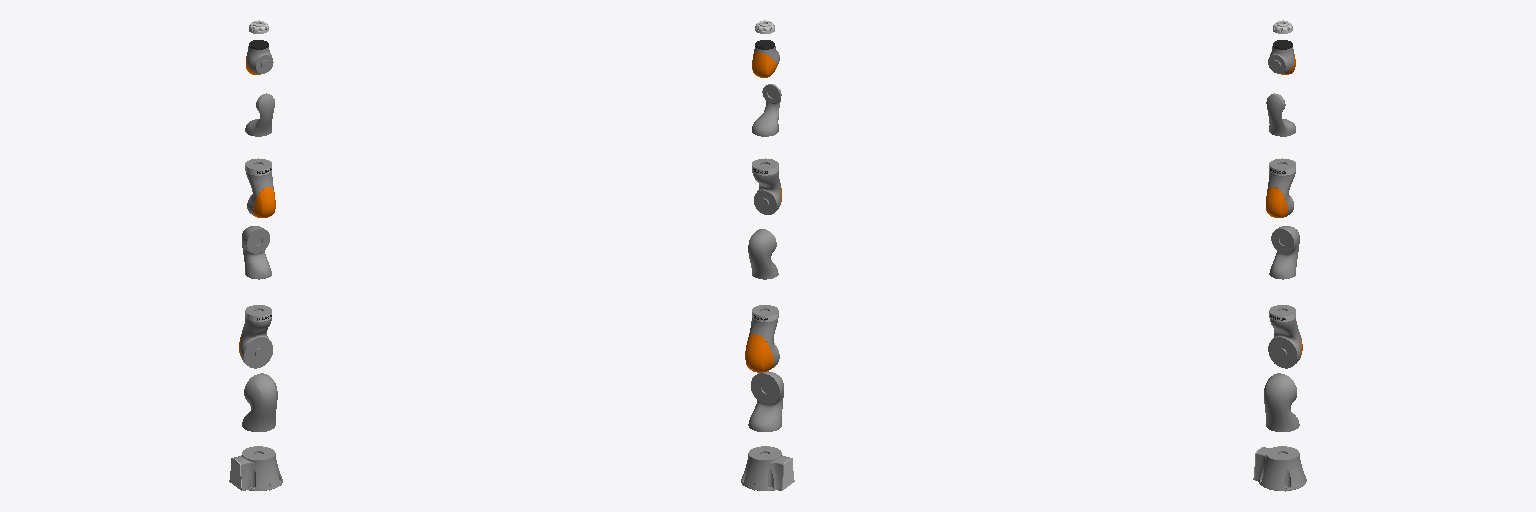
robot.urdf — kuka-iiwa-14:
<?xml version="1.0"?>

<robot name = "kuka-iiwa-14">

    <link name = "base_link">
        <visual>
            <origin rpy="0.0 0.0 0.0" xyz="0.0 0.0 0.0"/>
            <geometry>
                <mesh filename = "package://kuka-iiwa-14_description/meshes/link_0.dae" scale = "1.0 1.0 1.0"/>
            </geometry>
        </visual>
    </link>

    <!-- Joint 1: Base to Link 1 - Rotates around Z -->
    <joint name="base_to_link1" type="revolute">
        <origin xyz="0.0 0.0 0.1575"  rpy="0.0 0.0 0.0"/>
        <parent link="base_link"/>
        <child link="link_1"/>
        <axis xyz="0.0 0.0 1.0"/>
        <limit lower="-2.967" upper="2.967" effort="320.0" velocity="1.483"/>
    </joint>

    <link name = "link_1">
        <visual>
        <origin rpy="0.0 0.0 0.0" xyz ="0.0 0.0 0.0"/>
            <geometry>
                <mesh filename = "package://kuka-iiwa-14_description/meshes/link_1.dae" scale = "1.0 1.0 1.0"/>
            </geometry>
        </visual>
    </link>

    <!-- Joint 2: Link 1 to Link 2 - Rotates around Y -->
    <joint name="link1_to_link2" type="revolute">
        <origin xyz="0.0 0.0 0.2025"  rpy="0.0 0.0 0.0"/>
        <parent link="link_1"/>
        <child link="link_2"/>
        <axis xyz="0.0 1.0 0.0"/>
        <limit lower="-2.094" upper="2.094" effort="320.0" velocity="1.483"/>
    </joint>

    <link name = "link_2">
        <visual>
        <origin rpy="0.0 0.0 0.0" xyz ="0.0 0.0 0.0"/>
            <geometry>
                <mesh filename = "package://kuka-iiwa-14_description/meshes/link_2.dae" scale = "1.0 1.0 1.0"/>
            </geometry>
        </visual>
    </link>

    <!-- Joint 3: Link 2 to Link 3 - Rotates around Z -->
     <joint name="link2_to_link3" type="revolute">
        <origin xyz="0.0 0.0 0.2045"  rpy="0.0 0.0 0.0"/>
        <parent link="link_2"/>
        <child link="link_3"/>
        <axis xyz="0.0 0.0 1.0"/>
        <limit lower="-2.967" upper="2.967" effort="176.0" velocity="1.745"/>
    </joint>

    <link name = "link_3">
        <visual>
        <origin rpy="0.0 0.0 0.0" xyz ="0.0 0.0 0.0"/>
            <geometry>
                <mesh filename = "package://kuka-iiwa-14_description/meshes/link_3.dae" scale = "1.0 1.0 1.0"/>
            </geometry>
        </visual>
    </link>

    <!-- Joint 4: Link 3 to Link 4 - Rotates around -Y -->
    <joint name="link3_to_link4" type="revolute">
        <origin xyz="0.0 0.0 0.2155"  rpy="0.0 0.0 0.0"/>
        <parent link="link_3"/>
        <child link="link_4"/>
        <axis xyz="0.0 -1.0 0.0"/>
        <limit lower="-2.094" upper="2.094" effort="176.0" velocity="1.308"/>
    </joint>

    <link name = "link_4">
        <visual>
        <origin rpy="0.0 0.0 0.0" xyz ="0.0 0.0 0.0"/>
            <geometry>
                <mesh filename = "package://kuka-iiwa-14_description/meshes/link_4.dae" scale = "1.0 1.0 1.0"/>
            </geometry>
        </visual>
    </link>

    <!-- Joint 5: Link 4 to Link 5 - Rotates around Z -->
    <joint name="link4_to_link5" type="revolute">
        <origin xyz="0.0 0.0 0.1845"  rpy="0.0 0.0 0.0"/>
        <parent link="link_4"/>
        <child link="link_5"/>
        <axis xyz="0.0 0.0 1.0"/>
        <limit lower="-2.967" upper="2.967" effort="110.0" velocity="2.268"/>
    </joint>

    <link name = "link_5">
        <visual>
        <origin rpy="0.0 0.0 0.0" xyz ="0.0 0.0 0.0"/>
            <geometry>
                <mesh filename = "package://kuka-iiwa-14_description/meshes/link_5.dae" scale = "1.0 1.0 1.0"/>
            </geometry>
        </visual>
    </link>

    <!-- Joint 6: Link 5 to Link 6 - Rotates around Y -->
    <joint name="link5_to_link6" type="revolute">
        <origin xyz="0.0 0.0 0.2155"  rpy="0.0 0.0 0.0"/>
        <parent link="link_5"/>
        <child link="link_6"/>
        <axis xyz="0.0 1.0 0.0"/>
        <limit lower="-2.094" upper="2.094" effort="40.0" velocity="2.356"/>
    </joint>

    <link name = "link_6">
        <visual>
        <origin rpy="0.0 0.0 0.0" xyz ="0.0 0.0 0.0"/>
            <geometry>
                <mesh filename = "package://kuka-iiwa-14_description/meshes/link_6.dae" scale = "1.0 1.0 1.0"/>
            </geometry>
        </visual>
    </link>

    <!-- Joint 7: Link 6 to Link 7 - Rotates around Z -->
    <joint name="link6_to_link7" type="revolute">
        <origin xyz="0.0 0.0 0.081"  rpy="0.0 0.0 0.0"/>
        <parent link="link_6"/>
        <child link="link_7"/>
        <axis xyz="0.0 0.0 1.0"/>
        <limit lower="-3.054" upper="3.054" effort="40.0" velocity="2.356"/>
    </joint>

    <link name = "link_7">
        <visual>
        <origin rpy="0.0 0.0 0.0" xyz ="0.0 0.0 0.0"/>
            <geometry>
                <mesh filename = "package://kuka-iiwa-14_description/meshes/link_7.dae" scale = "1.0 1.0 1.0"/>
            </geometry>
        </visual>
    </link>
    
</robot>

--- Facts derived from the render (not from the file) ---
The picture shows the robot from 3 angles, left to right: view 1: azimuth 30°, elevation 25°; view 2: azimuth 150°, elevation 25°; view 3: azimuth 330°, elevation 25°; orthographic projection.
Model kuka-iiwa-14 with 8 links and 7 joints (7 revolute), rooted at base_link, posed all joints at 0.
Visible links, largest first — view 1: base_link, link_2, link_1, link_4, link_3, link_5, link_6; view 2: base_link, link_2, link_1, link_4, link_3, link_5, link_6; view 3: base_link, link_2, link_1, link_4, link_3, link_5, link_6.
Boxes of the visible links, x1,y1,x2,y2 form: base_link: (229, 446, 282, 490); link_2: (239, 305, 272, 368); link_1: (242, 373, 277, 431); link_4: (245, 158, 275, 217); link_3: (242, 226, 271, 279); link_5: (245, 93, 274, 136); link_6: (246, 40, 273, 74); base_link: (741, 446, 794, 490); link_2: (745, 305, 779, 372); link_1: (748, 371, 783, 431); link_4: (752, 158, 781, 214); link_3: (748, 229, 778, 279); link_5: (752, 84, 781, 136); link_6: (752, 40, 779, 77); base_link: (1253, 446, 1306, 491); link_2: (1268, 305, 1302, 368); link_1: (1264, 373, 1299, 431); link_4: (1266, 158, 1295, 217); link_3: (1269, 226, 1299, 279); link_5: (1266, 93, 1295, 136); link_6: (1268, 40, 1295, 74).
Bounding box of the posed robot: 0.2575 × 0.2536 × 2.57 m (x, y, z).
Meshes: 8 distinct files referenced, 8 mesh visuals loaded (8 Collada DAE).
